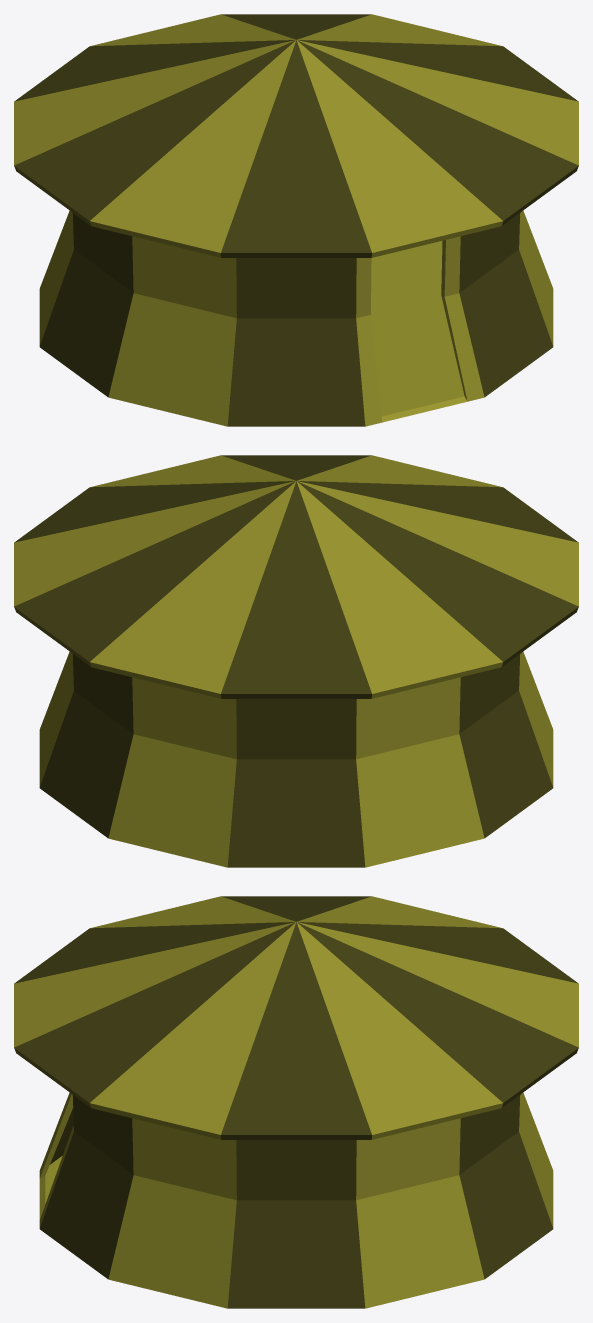
Rendered from Tent_5_Yellow.fbx.
3 renders of one model, top to bottom at view 1: azimuth 30°, elevation 25°; view 2: azimuth 150°, elevation 25°; view 3: azimuth 270°, elevation 25°, orthographic.
Parts seen in each view (by area): view 1: Tent_5_Yellow_Part_14, Tent_5_Yellow_Part_3, Tent_5_Yellow_Part_4, Tent_5_Yellow_Part_13, Tent_5_Yellow_Part_1, Tent_5_Yellow_Part_5, Tent_5_Yellow_Part_6, Tent_5_Yellow_Part_12; view 2: Tent_5_Yellow_Part_14, Tent_5_Yellow_Part_7, Tent_5_Yellow_Part_6, Tent_5_Yellow_Part_8, Tent_5_Yellow_Part_5, Tent_5_Yellow_Part_9, Tent_5_Yellow_Part_4, Tent_5_Yellow_Part_10; view 3: Tent_5_Yellow_Part_14, Tent_5_Yellow_Part_11, Tent_5_Yellow_Part_10, Tent_5_Yellow_Part_12, Tent_5_Yellow_Part_13, Tent_5_Yellow_Part_9, Tent_5_Yellow_Part_8, Tent_5_Yellow_Part_3, Tent_5_Yellow_Part_1.
Part boxes in pixels (box(x1,y1,x2,y2)): Tent_5_Yellow_Part_14: box(14, 14, 578, 257); Tent_5_Yellow_Part_3: box(227, 258, 382, 426); Tent_5_Yellow_Part_4: box(108, 236, 236, 426); Tent_5_Yellow_Part_13: box(441, 213, 553, 401); Tent_5_Yellow_Part_1: box(371, 240, 467, 422); Tent_5_Yellow_Part_5: box(39, 213, 133, 396); Tent_5_Yellow_Part_6: box(39, 210, 73, 345); Tent_5_Yellow_Part_12: box(519, 210, 553, 345); Tent_5_Yellow_Part_14: box(14, 455, 578, 698); Tent_5_Yellow_Part_7: box(227, 699, 365, 867); Tent_5_Yellow_Part_6: box(356, 677, 484, 867); Tent_5_Yellow_Part_8: box(108, 677, 236, 867); Tent_5_Yellow_Part_5: box(459, 654, 553, 837); Tent_5_Yellow_Part_9: box(39, 654, 133, 837); Tent_5_Yellow_Part_4: box(519, 651, 553, 786); Tent_5_Yellow_Part_10: box(39, 651, 73, 786); Tent_5_Yellow_Part_14: box(14, 896, 578, 1139); Tent_5_Yellow_Part_11: box(227, 1140, 365, 1308); Tent_5_Yellow_Part_10: box(356, 1118, 484, 1308); Tent_5_Yellow_Part_12: box(108, 1118, 236, 1308); Tent_5_Yellow_Part_13: box(39, 1095, 133, 1278); Tent_5_Yellow_Part_9: box(459, 1095, 553, 1278); Tent_5_Yellow_Part_8: box(519, 1092, 553, 1227); Tent_5_Yellow_Part_3: box(39, 1092, 73, 1178); Tent_5_Yellow_Part_1: box(39, 1155, 62, 1219).
Bounding box in the file's own units: 819 × 445 × 819.
